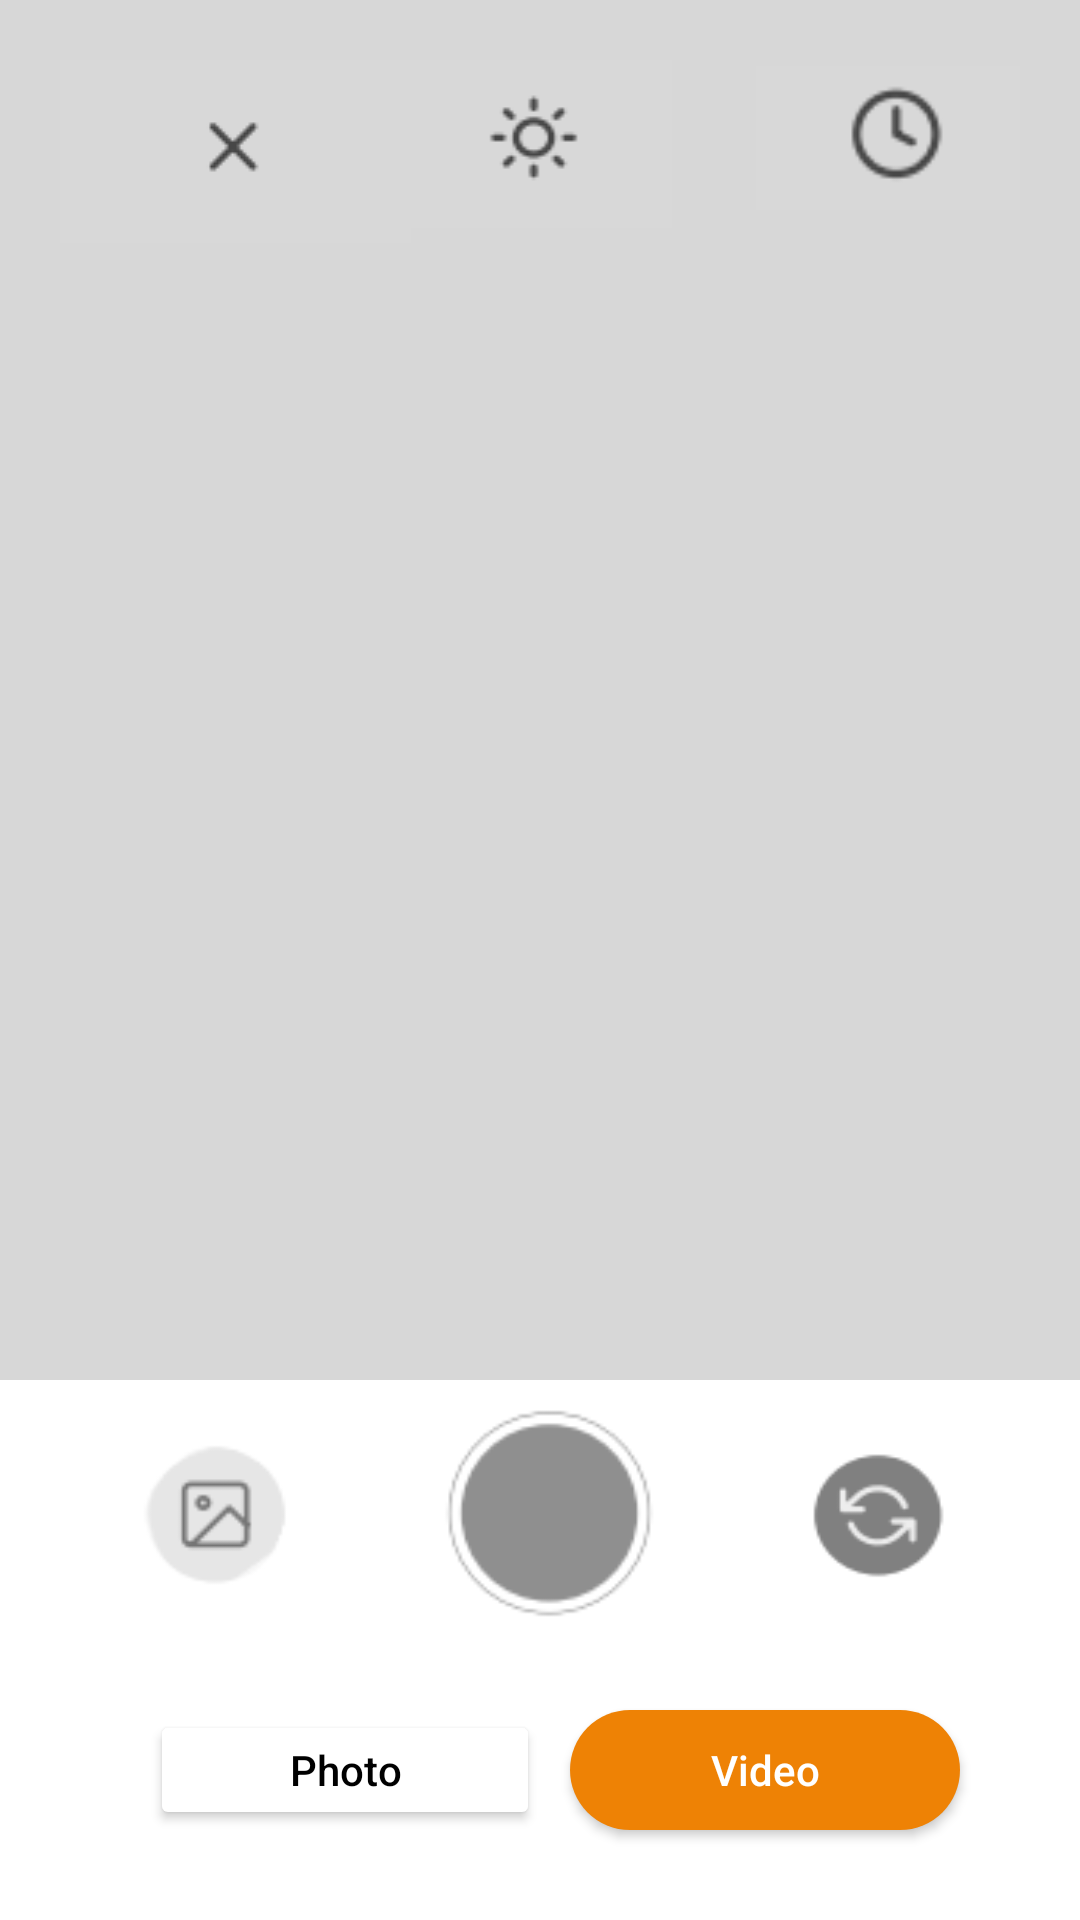

Where icons sit on this 1080*1920 app screen, as {"left": x1, "top": y1, "right": x2, "bottom": y2}:
brightness: {"left": 490, "top": 96, "right": 577, "bottom": 178}
switch cam: {"left": 813, "top": 1454, "right": 943, "bottom": 1577}
